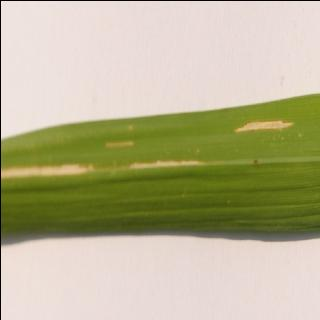Hawar-Daun: (0, 153, 226, 184), (232, 108, 306, 148)
